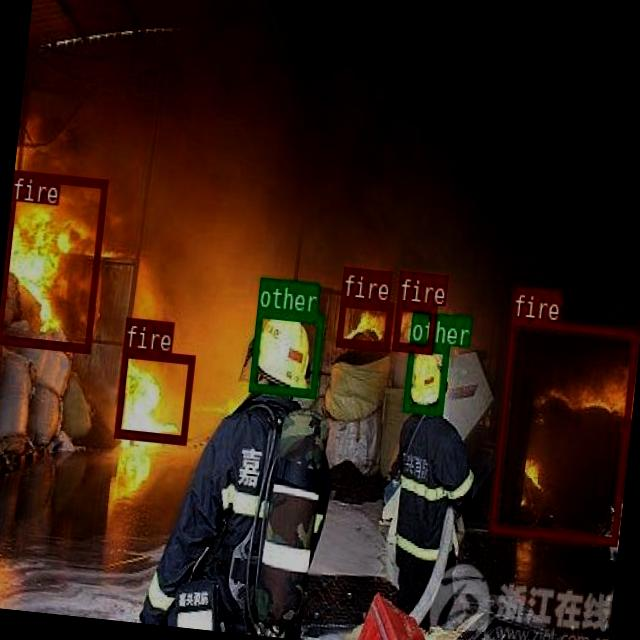fire: (488, 316, 638, 544), (0, 168, 107, 350), (113, 347, 193, 442), (335, 296, 393, 348), (390, 300, 436, 352)
